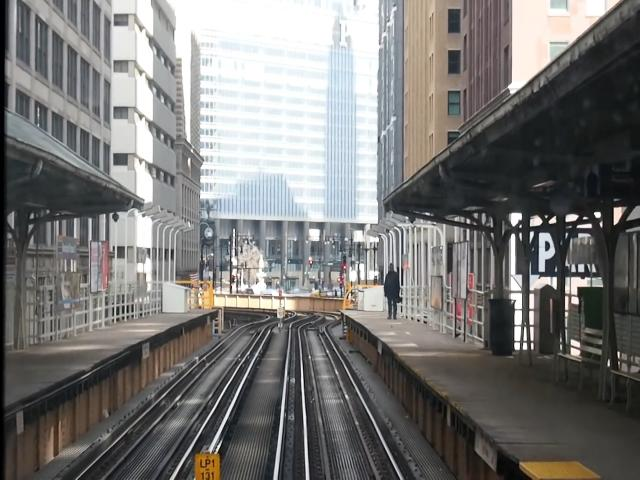signal light: (343, 257, 349, 277)
